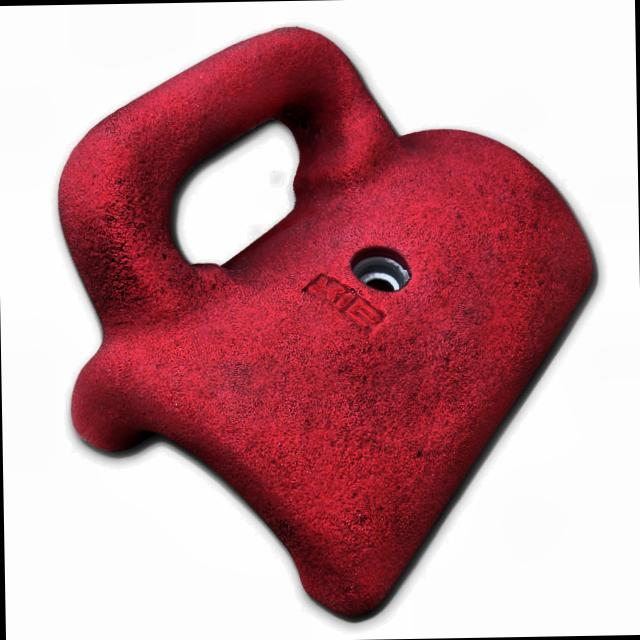Hold: (46, 18, 587, 620)
